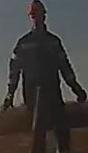gloves: (1, 86, 15, 112), (72, 84, 88, 104)
helmet: (26, 1, 47, 16)
vest: (8, 32, 65, 102)
